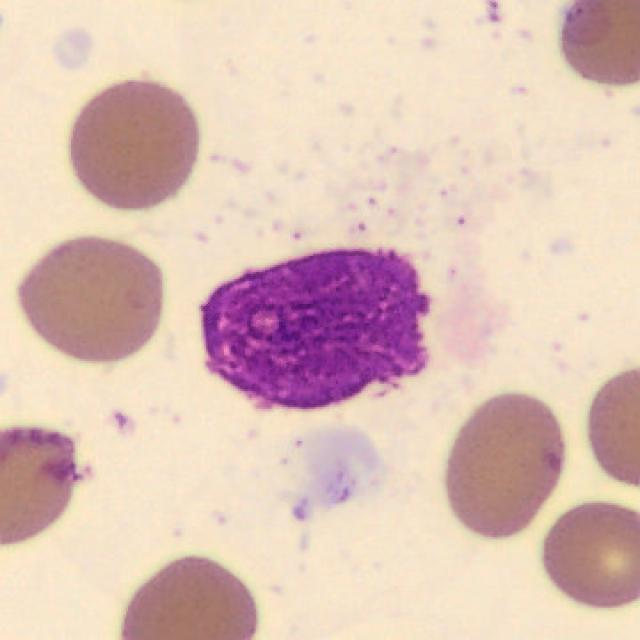Restos celulares: (201, 249, 430, 411)
